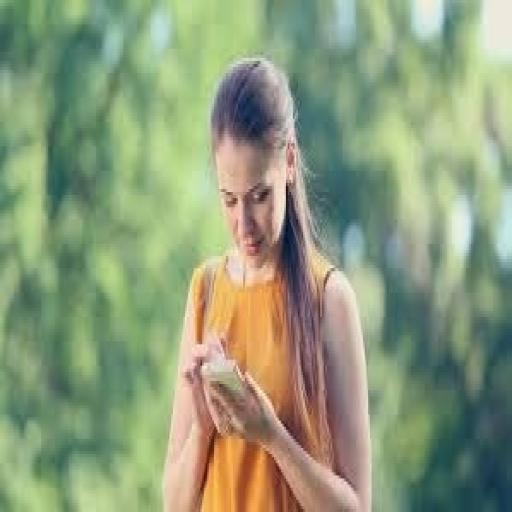texting: (161, 52, 373, 509)
